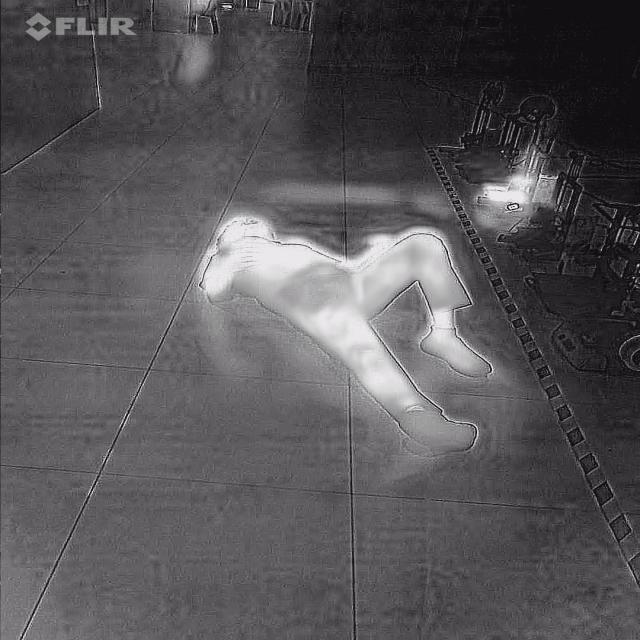Victim: (195, 213, 509, 454)
